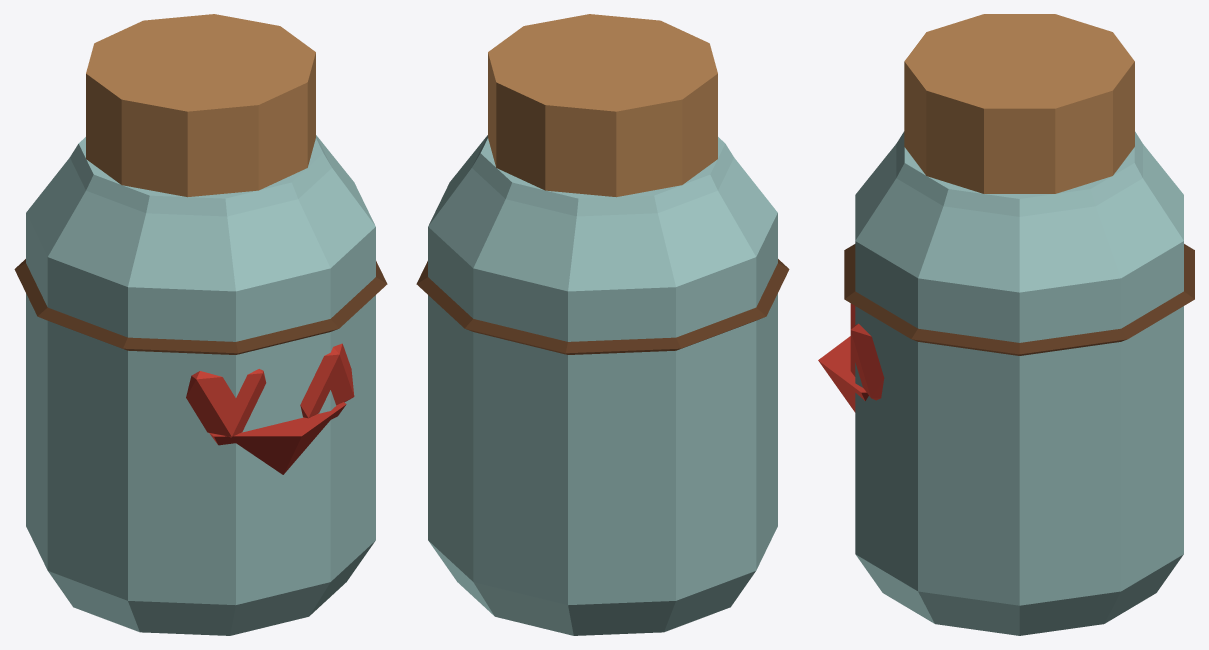
File: HeartJar.fbx
The picture shows the model from 3 angles, left to right: view 1: azimuth 30°, elevation 25°; view 2: azimuth 150°, elevation 25°; view 3: azimuth 270°, elevation 25°; orthographic projection.
Visible parts, largest first — view 1: HeartJar; view 2: HeartJar; view 3: HeartJar.
Part boxes in pixels (box(x1,y1,x2,y2)): HeartJar: box(14, 14, 387, 635); HeartJar: box(416, 14, 789, 635); HeartJar: box(818, 14, 1194, 635).
Size of the model in its own units: 1.2 by 1.8 by 1.2.
